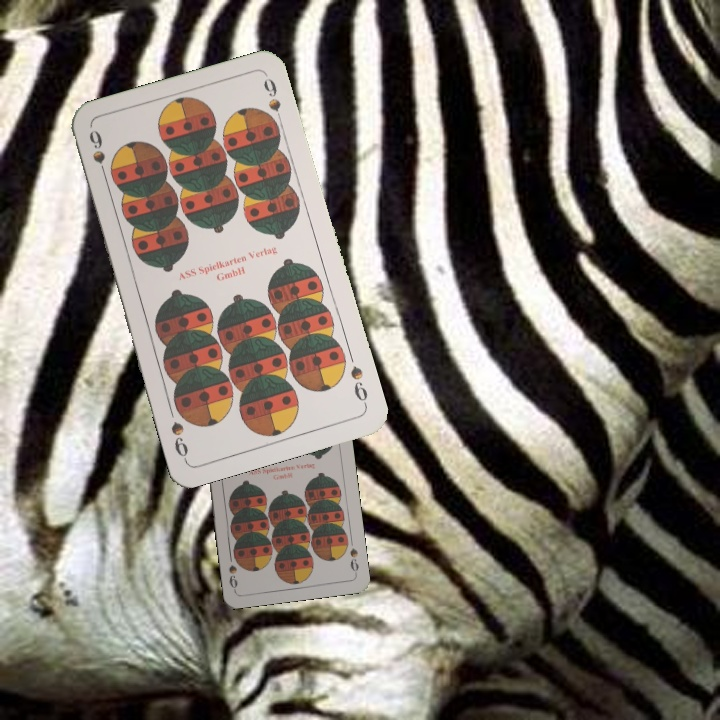S9: (85, 126, 111, 184), (346, 361, 370, 410), (346, 544, 361, 577)
